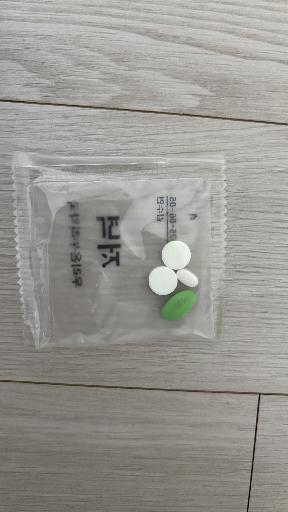Allerin: (176, 268, 198, 288)
Flasinyl: (162, 240, 191, 270), (149, 266, 177, 295)
Sto M: (162, 290, 196, 321)
vinyl: (11, 152, 227, 349)
